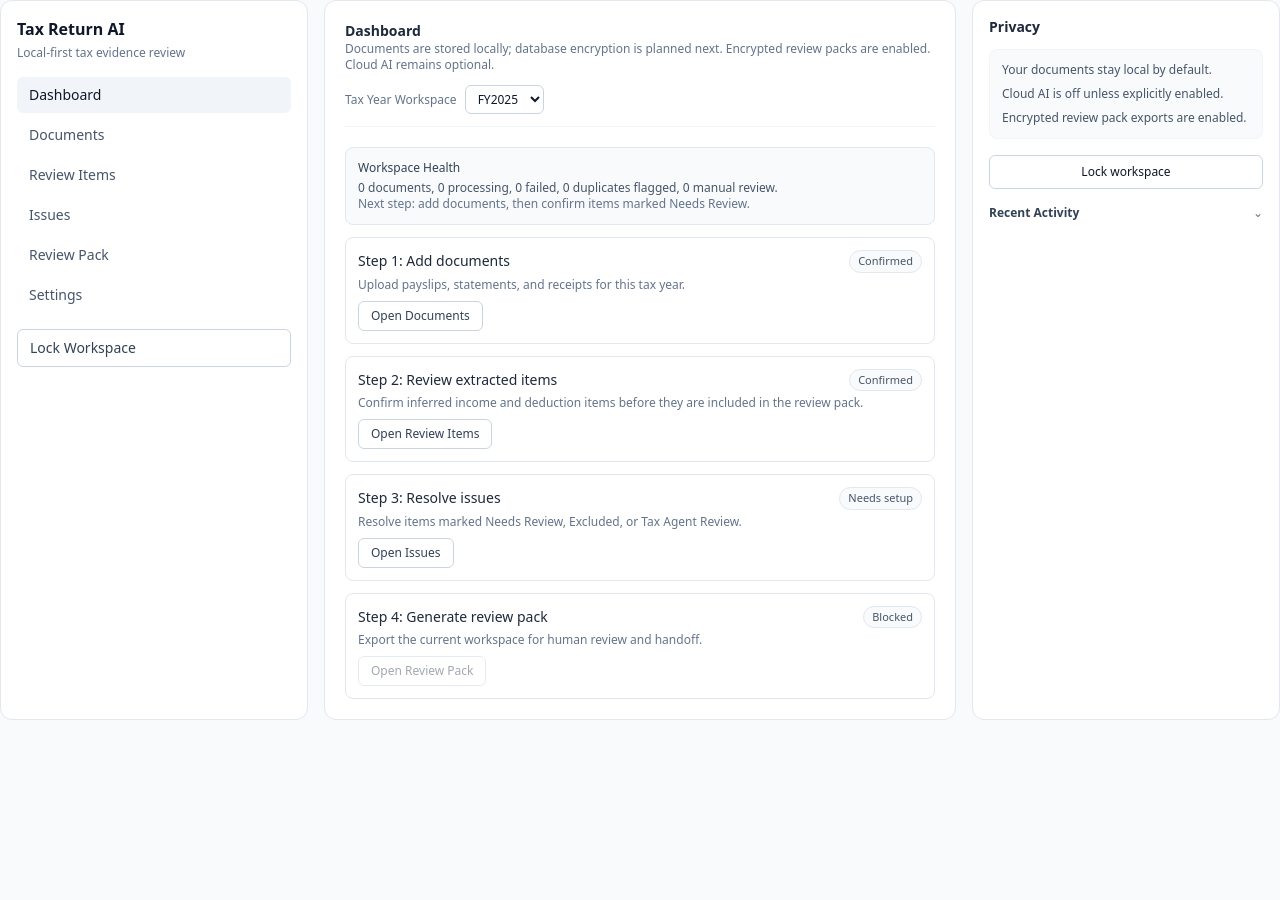
Test: WorkspaceApp API-backed states › shows generate controls when review pack is ready
Click the button "Review Pack" at (69, 254), box [17, 237, 291, 273]
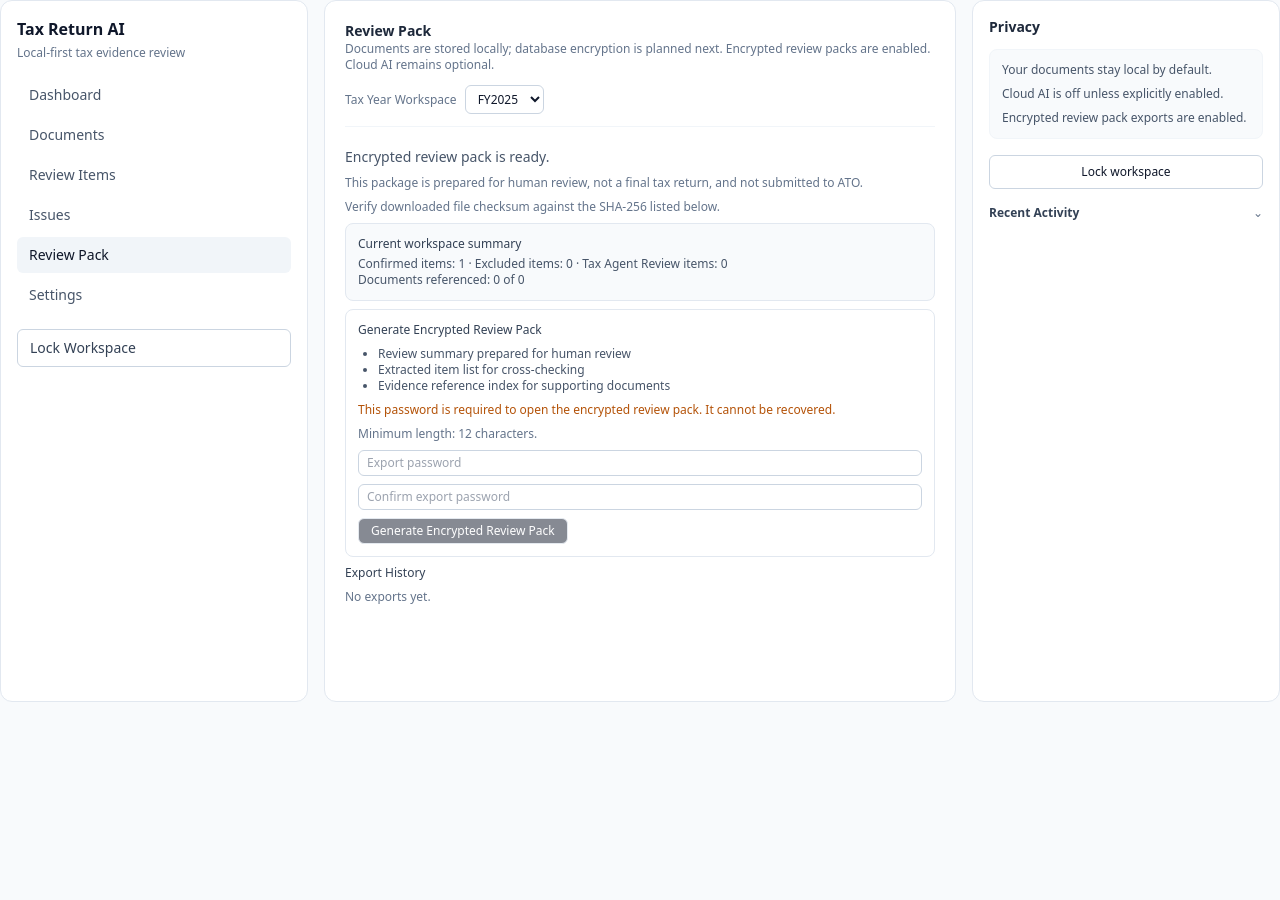
Result: the button "Generate Encrypted Review Pack" is shown at [358, 518, 568, 544]
Result: the text "This password is required to open the encrypted review pack. It cannot be recovered." is shown at [358, 401, 835, 418]
